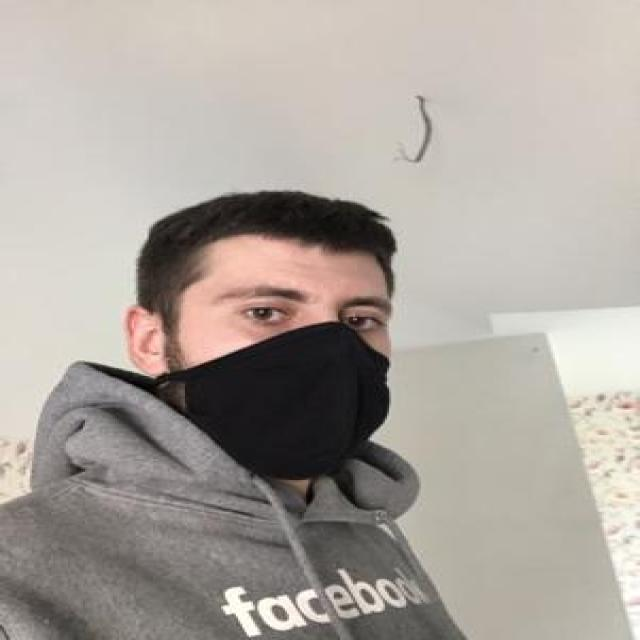with_mask: (178, 261, 390, 480)
